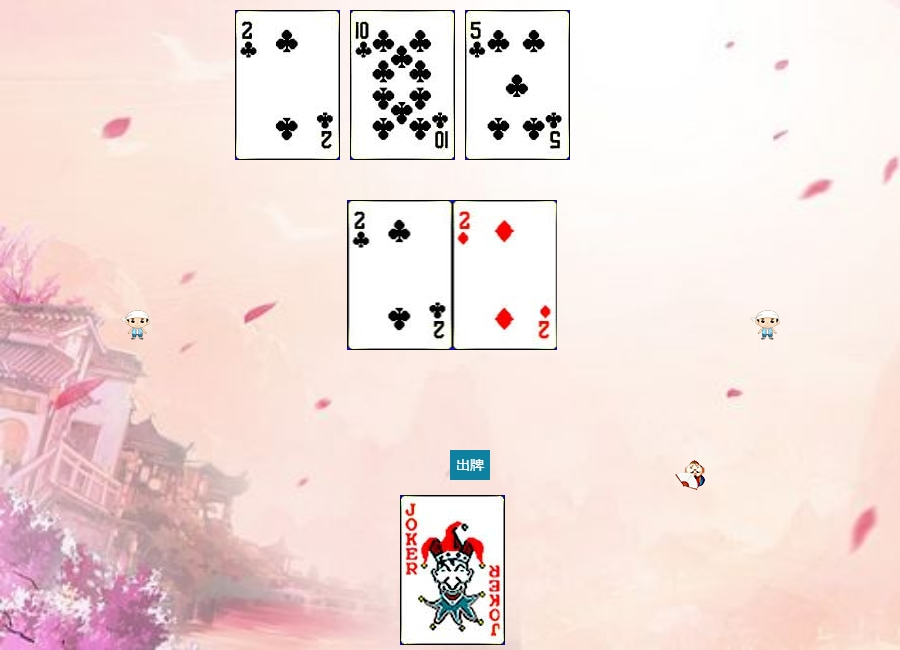10~2: (350, 10, 455, 160)
15~1: (453, 200, 558, 350)
15~2: (235, 10, 340, 160), (348, 200, 453, 350)
18~4: (400, 495, 505, 645)
5~2: (465, 10, 570, 160)
